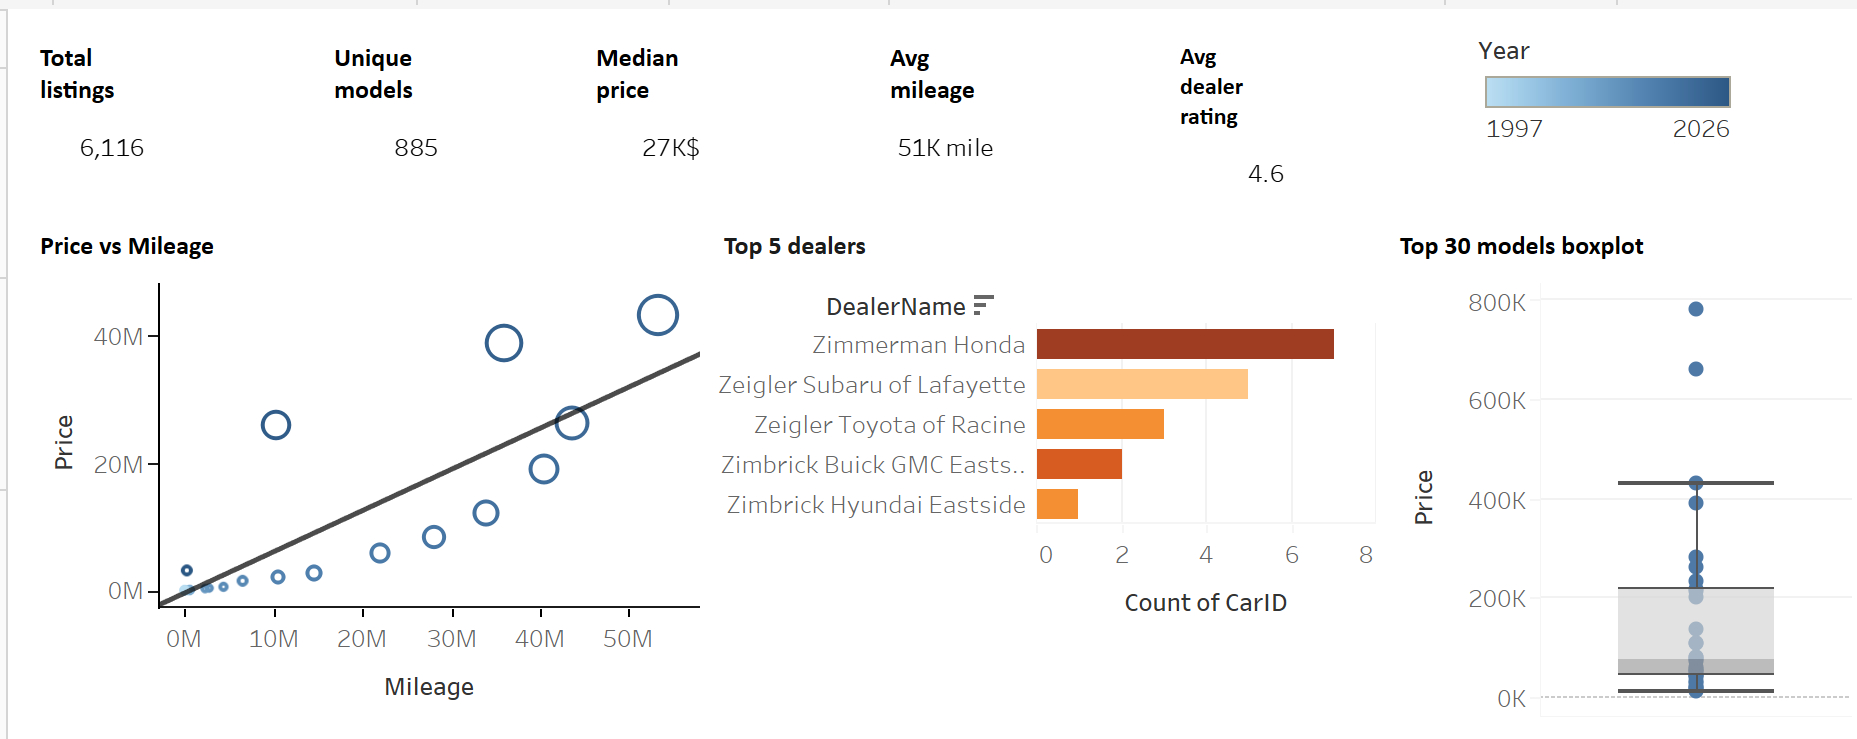

What the dashboard file says about the page in this screenshot:
{"tool":"tableau","page":{"name":"Dashboard 1","canvas":[1000,1000],"units":"permille","ordinal":0},"visuals":[{"type":"worksheet","title":"Sheet 1","mark":"Automatic","box":[8.6,21.9,157.4,256.8]},{"type":"worksheet","title":"Sheet 4","mark":"Automatic","box":[166,21.9,140.3,256.8]},{"type":"worksheet","title":"Sheet 2","mark":"Automatic","box":[306.2,21.9,157.4,256.8]},{"type":"worksheet","title":"Sheet 3","mark":"Automatic","box":[463.6,21.9,155.2,256.8]},{"type":"worksheet","title":"Sheet 5","mark":"Automatic","box":[618.9,21.9,163.8,256.8]},{"type":"legend","title":"Sheet 6","param":"[federated.00omu6m04mcili1a5s3yl1xj431f].[none:Year:qk]","box":[782.7,21.9,148.8,256.8]},{"type":"worksheet","title":"Sheet 6","mark":"Automatic","rows":["Price"],"cols":["Mileage"],"box":[8.6,278.7,366.2,699.5]},{"type":"worksheet","title":"Sheet 8","mark":"Automatic","rows":["DealerName"],"cols":["CarID"],"box":[374.7,278.7,361.9,699.5]},{"type":"worksheet","title":"Sheet 7","mark":"Circle","rows":["Price"],"box":[736.6,278.7,254.8,699.5]}]}

Visuals, with their boxes on the dashboard's canvas, which has no fixed pixel size, in thousandths of its width and height (x1, y1, x2, y2). These are canvas units, not pixel positions in the 1857x739 screenshot, which may show the page scaled, cropped or inside an application window:
"Sheet 1" worksheet: box(9, 22, 166, 279)
"Sheet 4" worksheet: box(166, 22, 306, 279)
"Sheet 2" worksheet: box(306, 22, 464, 279)
"Sheet 3" worksheet: box(464, 22, 619, 279)
"Sheet 5" worksheet: box(619, 22, 783, 279)
"Sheet 6" legend: box(783, 22, 932, 279)
"Sheet 6" worksheet: box(9, 279, 375, 978)
"Sheet 8" worksheet: box(375, 279, 737, 978)
"Sheet 7" worksheet (Circle marks): box(737, 279, 991, 978)
